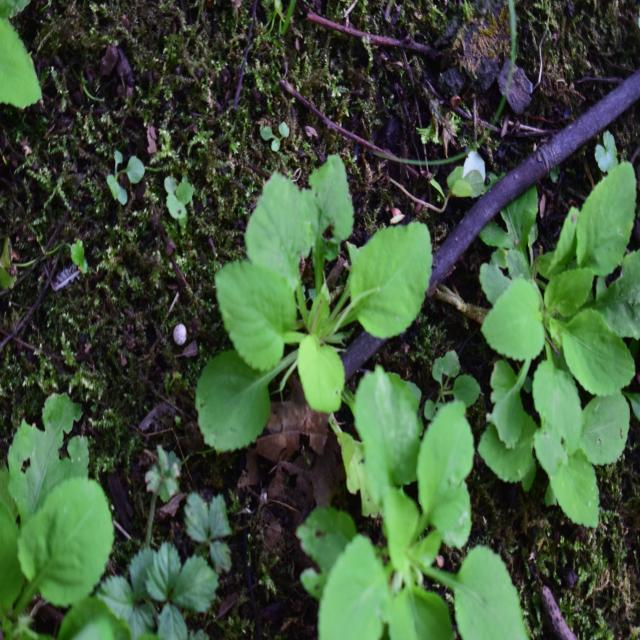Viola: (208, 162, 448, 513), (485, 182, 638, 492)
